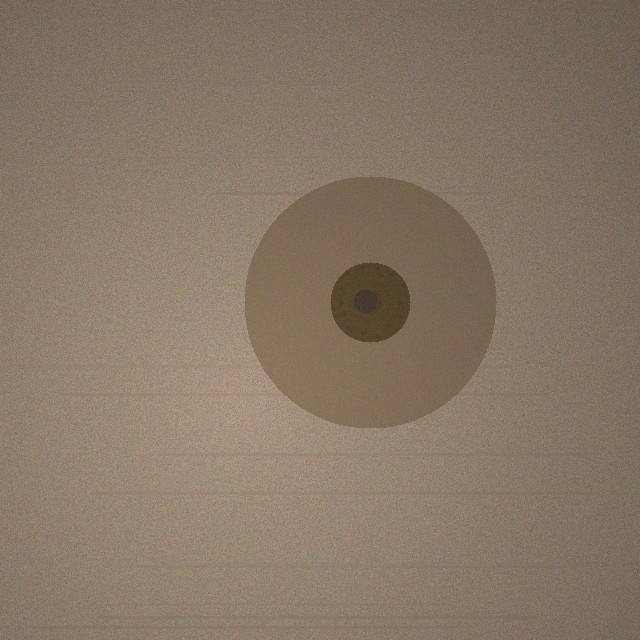cold_weld: (244, 176, 496, 428)
